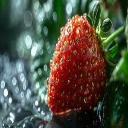strawberry: (47, 8, 114, 114)
